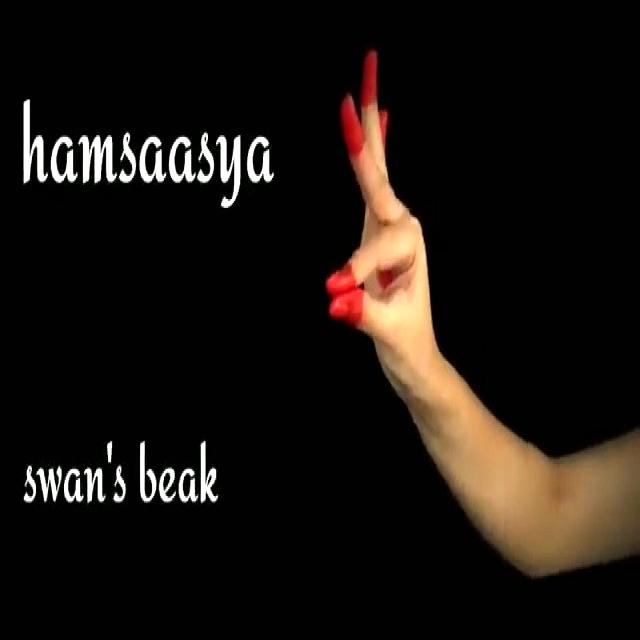Hamsasya: (316, 41, 441, 389)
text: (15, 84, 278, 232), (19, 437, 224, 523)
